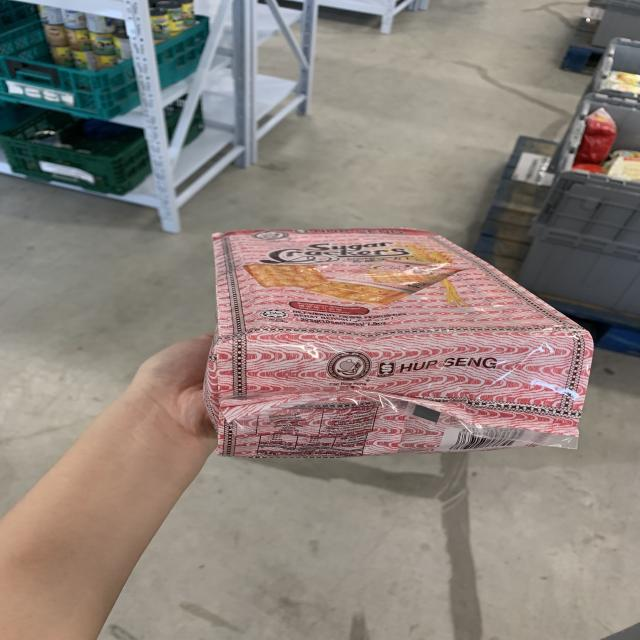object_name: (208, 229, 570, 443)
